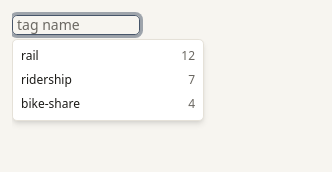
TagSuggestInput suggestions › offers a create affordance when nothing in the vocabulary matches
This screenshot has width=332, height=172.
Type "ferry" into the dropdown.
click(76, 25); type("ferry")  # box [12, 15, 140, 35]
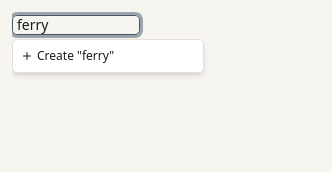
Result: the option "Create \"ferry\"" is shown at [21, 47, 114, 64]
